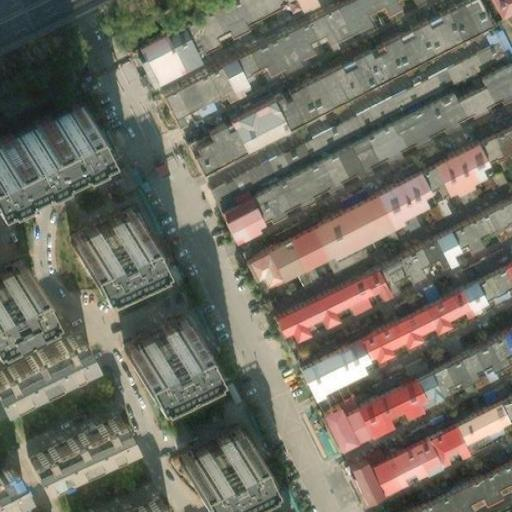building: (199, 36, 506, 203), (343, 55, 512, 173), (260, 193, 390, 286), (353, 279, 481, 364), (268, 266, 384, 346), (22, 419, 129, 493), (181, 0, 295, 62), (241, 152, 330, 223), (0, 99, 88, 170), (426, 195, 512, 267), (153, 55, 244, 123), (418, 135, 503, 207), (404, 458, 512, 512), (335, 376, 423, 442), (424, 333, 505, 395), (288, 336, 368, 397), (361, 433, 436, 493), (369, 238, 441, 295), (371, 169, 437, 230), (73, 209, 146, 264), (128, 30, 197, 86), (128, 320, 196, 375), (180, 433, 251, 485), (219, 95, 279, 148), (176, 117, 235, 169), (449, 398, 502, 449), (311, 136, 361, 188), (211, 187, 259, 238), (467, 264, 512, 308), (421, 419, 464, 463), (240, 248, 279, 296), (312, 402, 350, 451), (83, 493, 166, 512), (487, 122, 512, 178), (343, 463, 376, 504), (409, 368, 438, 403), (492, 388, 512, 420), (495, 324, 512, 353)
